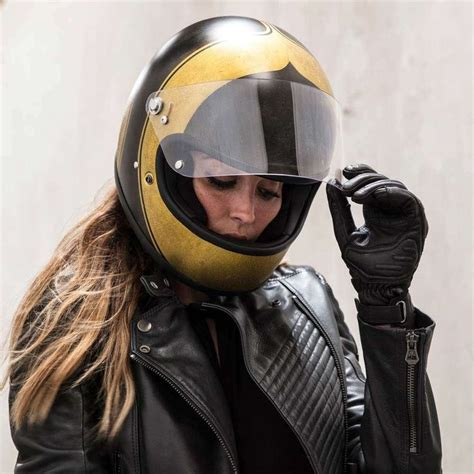com_capacete: (112, 14, 336, 297)
